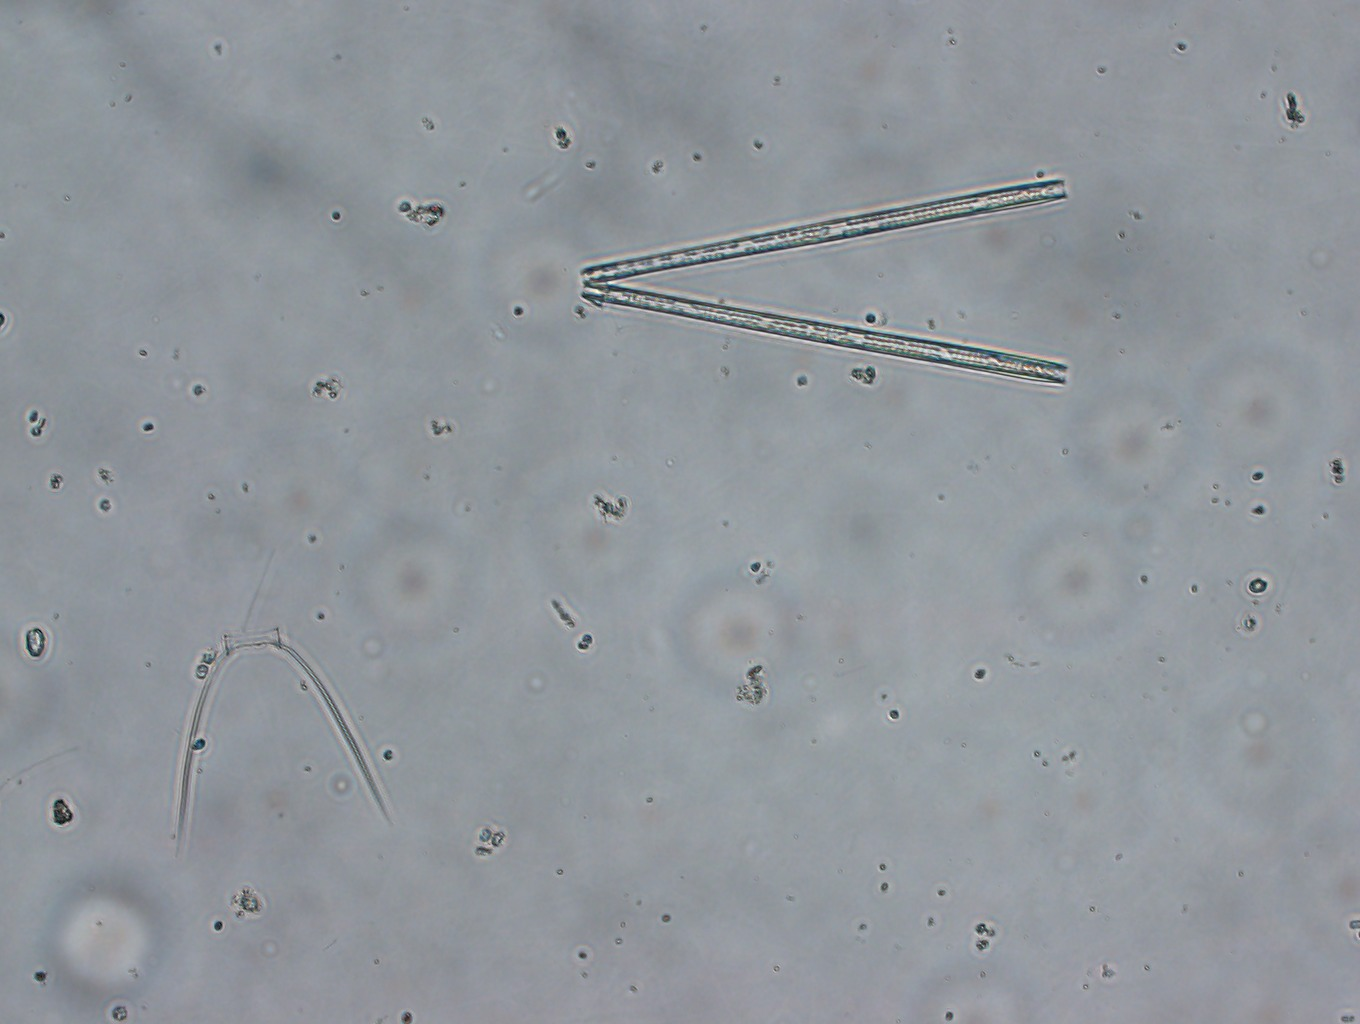chaetoceros: (157, 609, 393, 853)
thalassionema frauenfeldii: (575, 165, 1082, 396)
